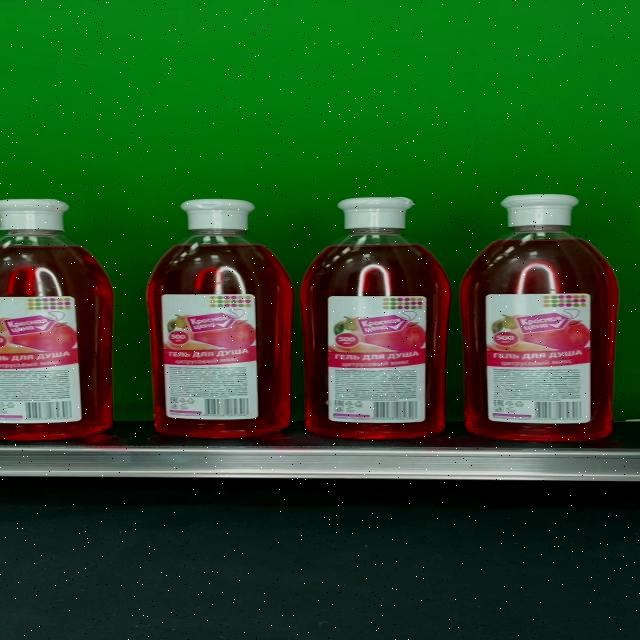Bottle: (462, 194, 616, 442), (299, 196, 450, 440), (146, 198, 292, 439), (0, 197, 114, 440)
Cap: (336, 195, 416, 229), (498, 194, 578, 226), (0, 198, 72, 231), (180, 198, 254, 230)
